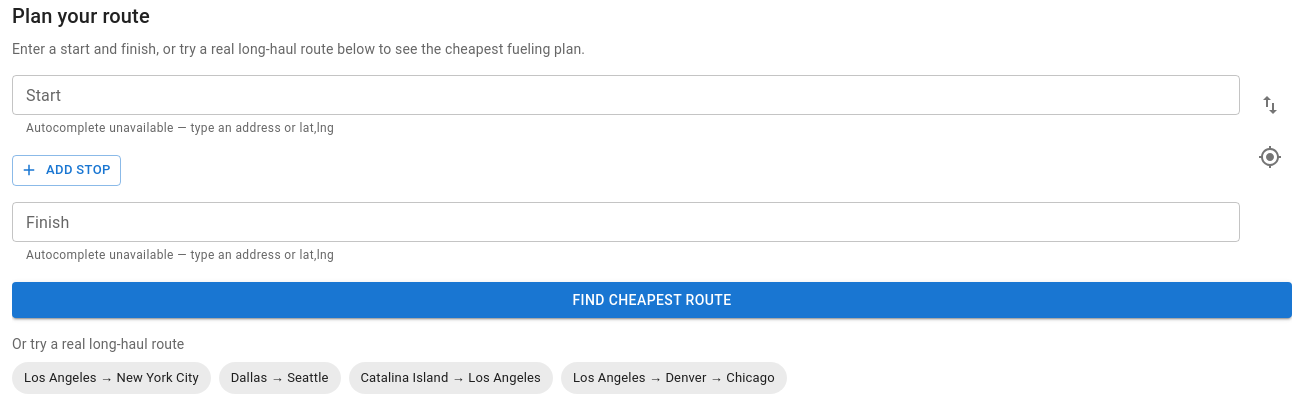
Test: Start and Finish are never removable; swap still swaps only the two endpoints
In the dropdown labelled "Start": (624,95) [18,81,1231,109], type "Origin City"
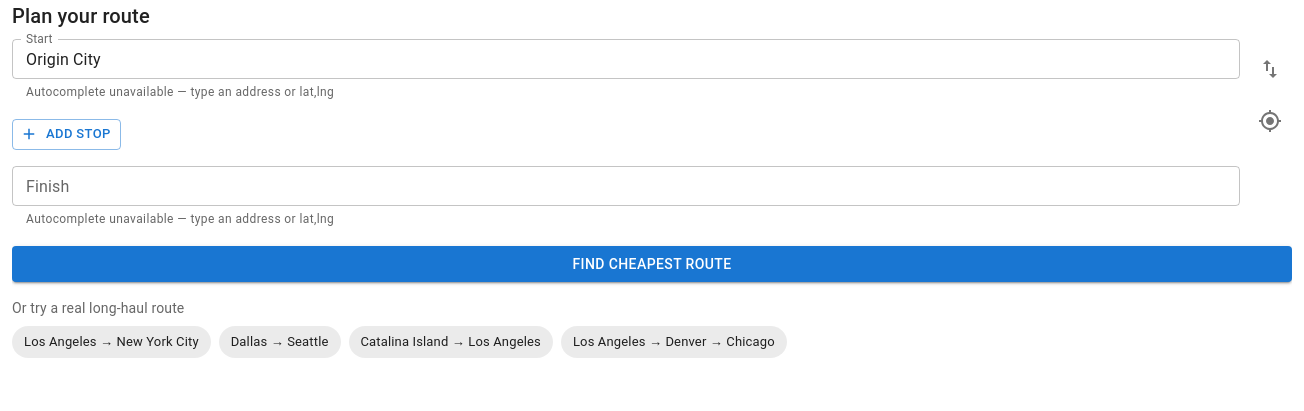
In the dropdown labelled "Finish": (624,186) [18,172,1231,200], type "Destination City"
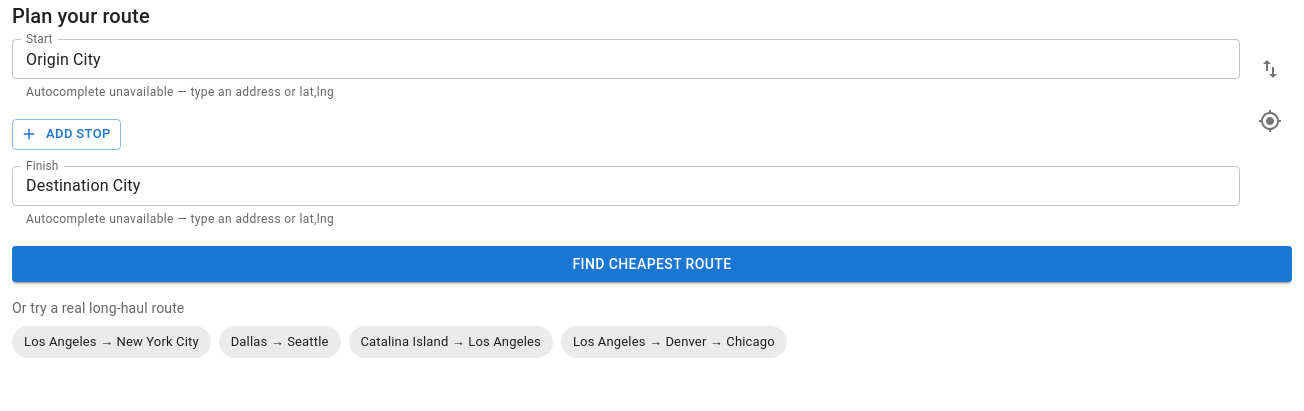
Click the button named "Swap start and finish": (1270,69) [1248,47,1292,91]
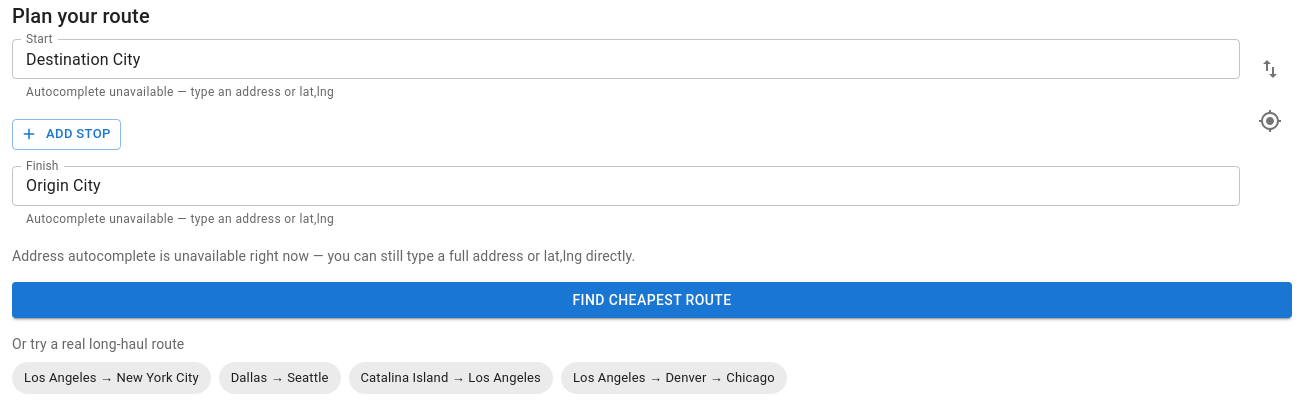
Result: the dropdown labelled "Start" holds "Destination City" at [18,45,1201,73]
Result: the dropdown labelled "Finish" holds "Origin City" at [18,172,1201,200]
